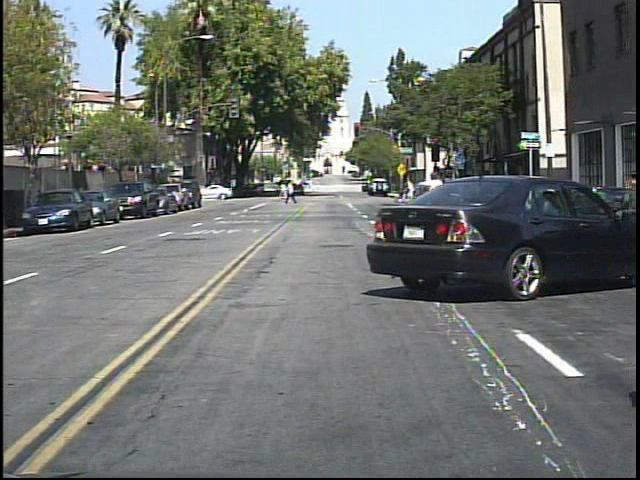person: (422, 162, 454, 253), (525, 169, 544, 224), (286, 176, 302, 208), (403, 175, 417, 203), (622, 167, 636, 189)
